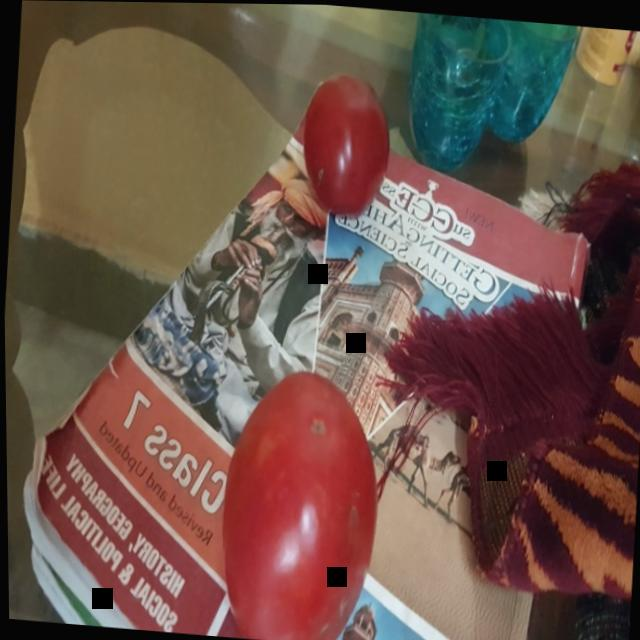tomato: (211, 354, 384, 640), (288, 66, 400, 222)
